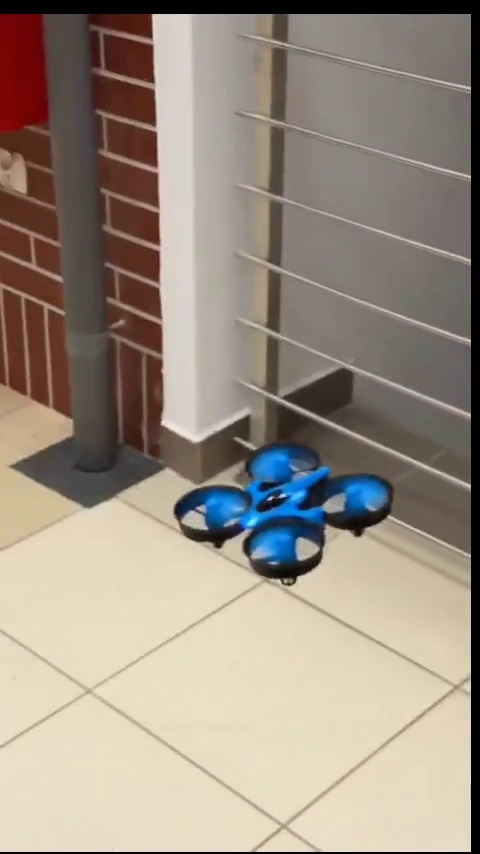drone: (180, 438, 386, 580)
